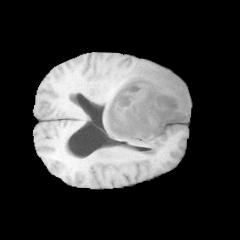glioma: (104, 63, 191, 148)
